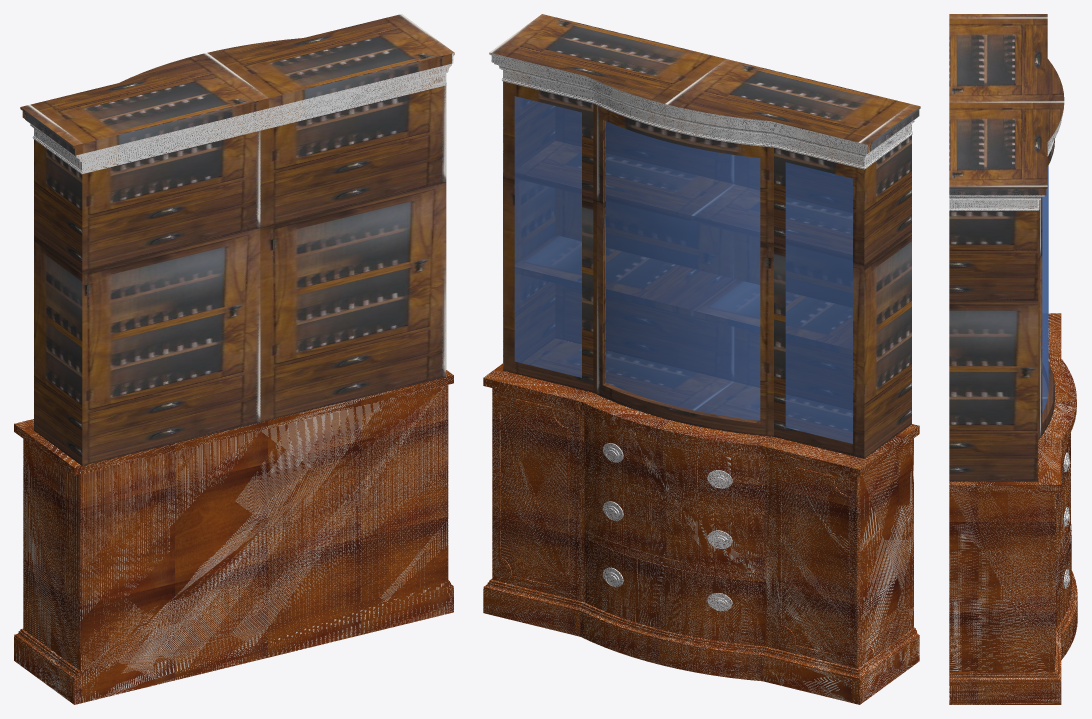
3 views of the same model, side by side, from view 1: azimuth 30°, elevation 25°; view 2: azimuth 150°, elevation 25°; view 3: azimuth 270°, elevation 25° (orthographic). The views are drawn at different scales.
Visible parts, largest first — view 1: mesh33_mesh33-geometry, mesh1_mesh1-geometry, mesh45_mesh45-geometry; view 2: mesh33_mesh33-geometry, mesh1_mesh1-geometry, mesh44_mesh44-geometry, mesh45_mesh45-geometry; view 3: mesh1_mesh1-geometry, mesh33_mesh33-geometry, mesh45_mesh45-geometry, mesh44_mesh44-geometry.
Boxes of the visible parts, x1,y1,x2,y2 form: mesh33_mesh33-geometry: (34,85,446,465); mesh1_mesh1-geometry: (14,370,453,704); mesh45_mesh45-geometry: (20,14,454,174); mesh33_mesh33-geometry: (503,81,911,458); mesh1_mesh1-geometry: (483,338,919,704); mesh44_mesh44-geometry: (593,103,773,436); mesh45_mesh45-geometry: (489,14,920,169); mesh1_mesh1-geometry: (949,313,1077,704); mesh33_mesh33-geometry: (949,211,1047,481); mesh45_mesh45-geometry: (949,14,1064,210); mesh44_mesh44-geometry: (1038,139,1054,439).
Bounding box in the file's own units: 0.5715 × 0.8007 × 0.1799.
